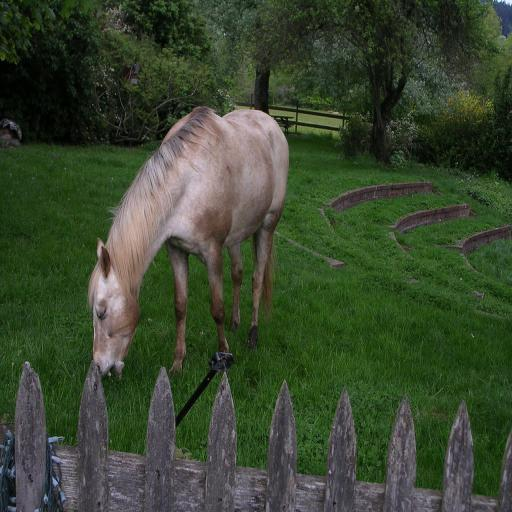horse: (86, 106, 290, 384)
